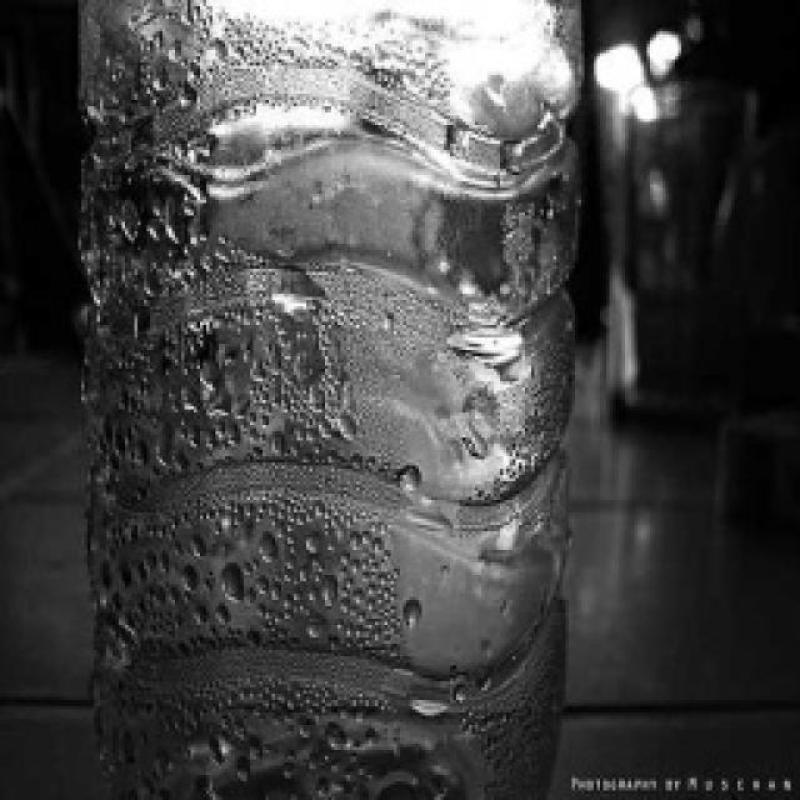botella: (73, 0, 571, 800)
